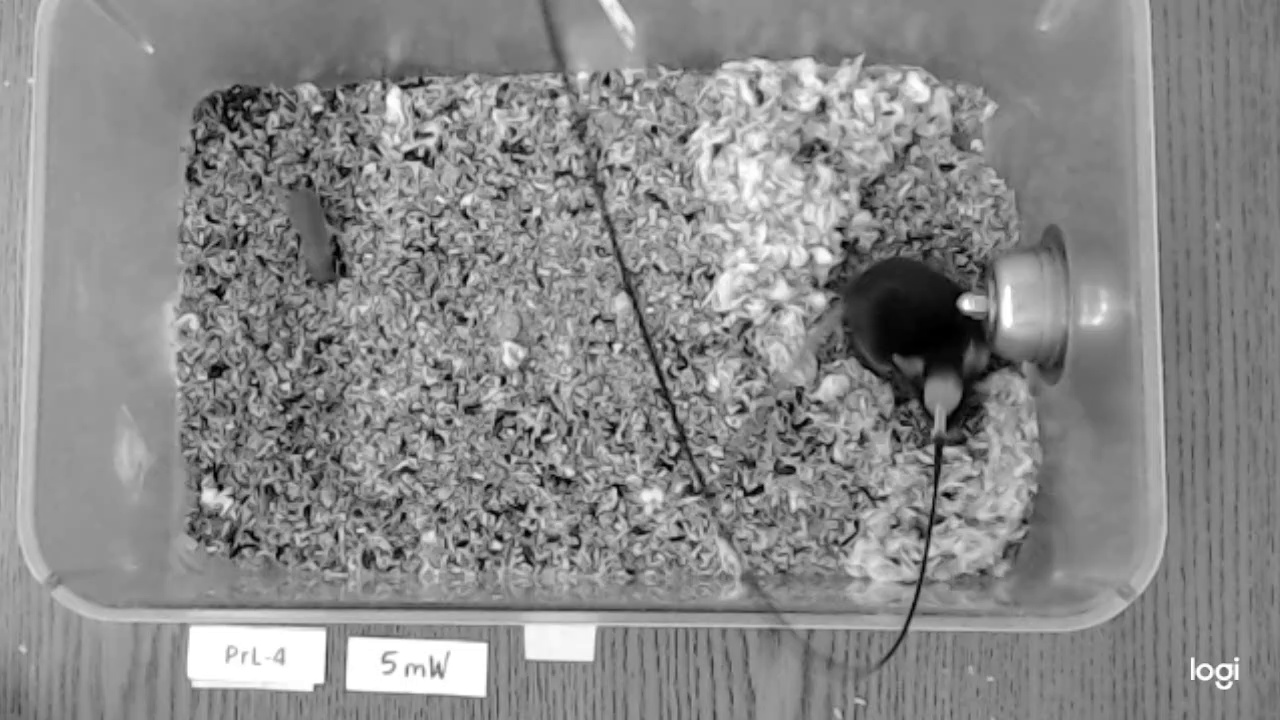child-mice: (276, 188, 344, 285)
